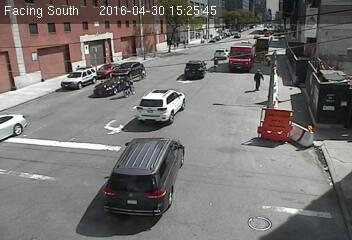neg: (295, 114, 319, 146), (148, 105, 165, 127), (205, 55, 220, 76), (208, 40, 221, 58), (186, 56, 199, 72), (131, 35, 142, 50), (114, 46, 124, 59)
pos: (252, 69, 268, 90), (264, 53, 275, 68), (175, 40, 181, 48)
